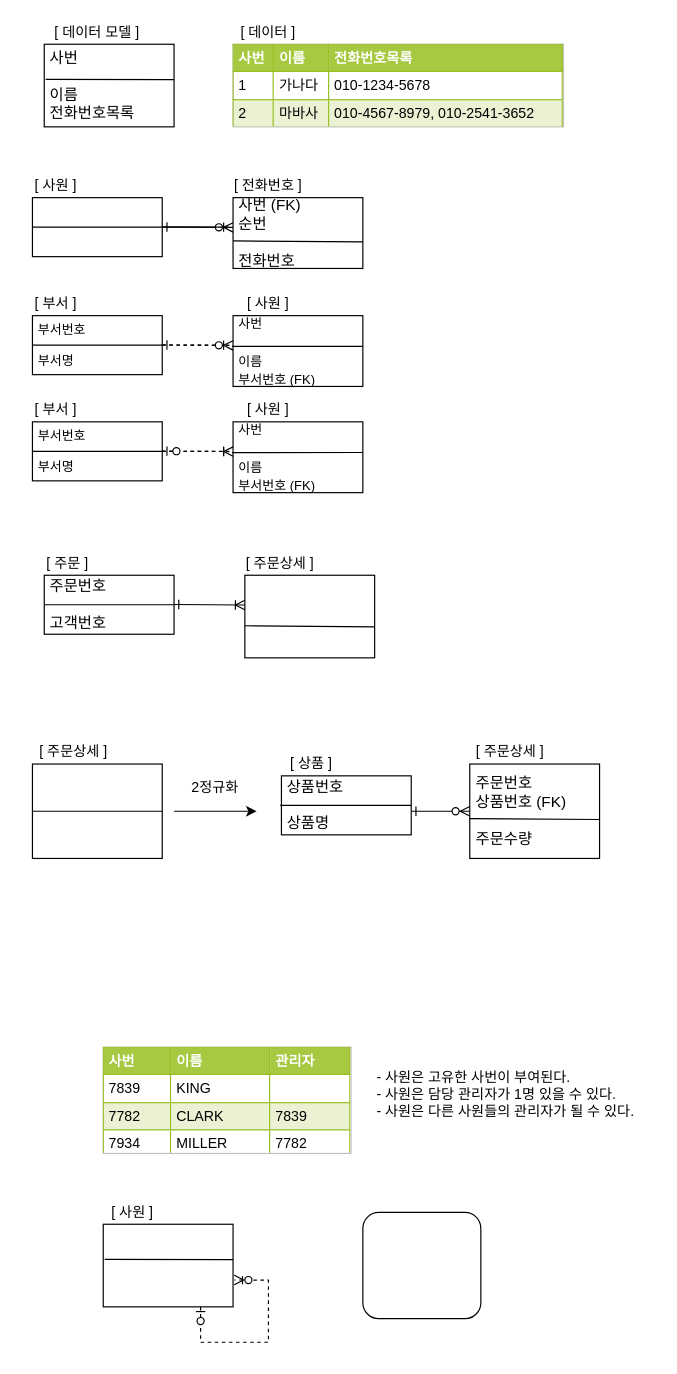
The diagram is 677 pixels wide and 1374 high, and some of its shapes have lost their labels. Each missing label, with the centre of its shape:
"사번 이름" goes at (x=96, y=226).
"사번 이름 관리자 (FK)" goes at (x=167, y=1265).
"사원 # 사번 * 이름 * 급여 0 수당 * 부서번호" goes at (x=421, y=1265).
"주문번호 (FK) 상품번호 주문수량" goes at (x=309, y=616).
"주문번호 상품번호 주문수량 상품명" goes at (x=96, y=810).
